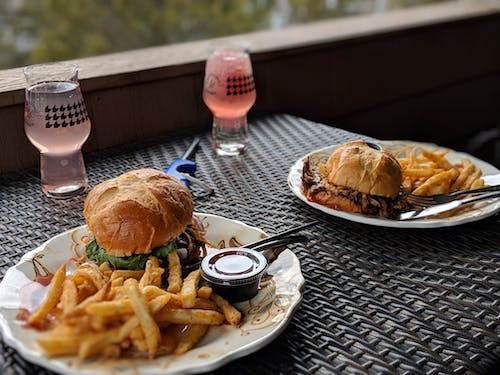knife: (383, 191, 500, 222)
